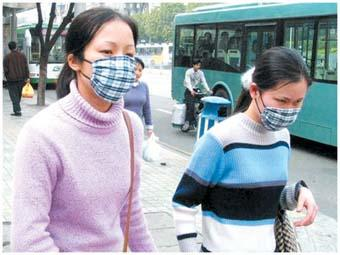yes_mask: (59, 6, 136, 103), (238, 47, 311, 132)
